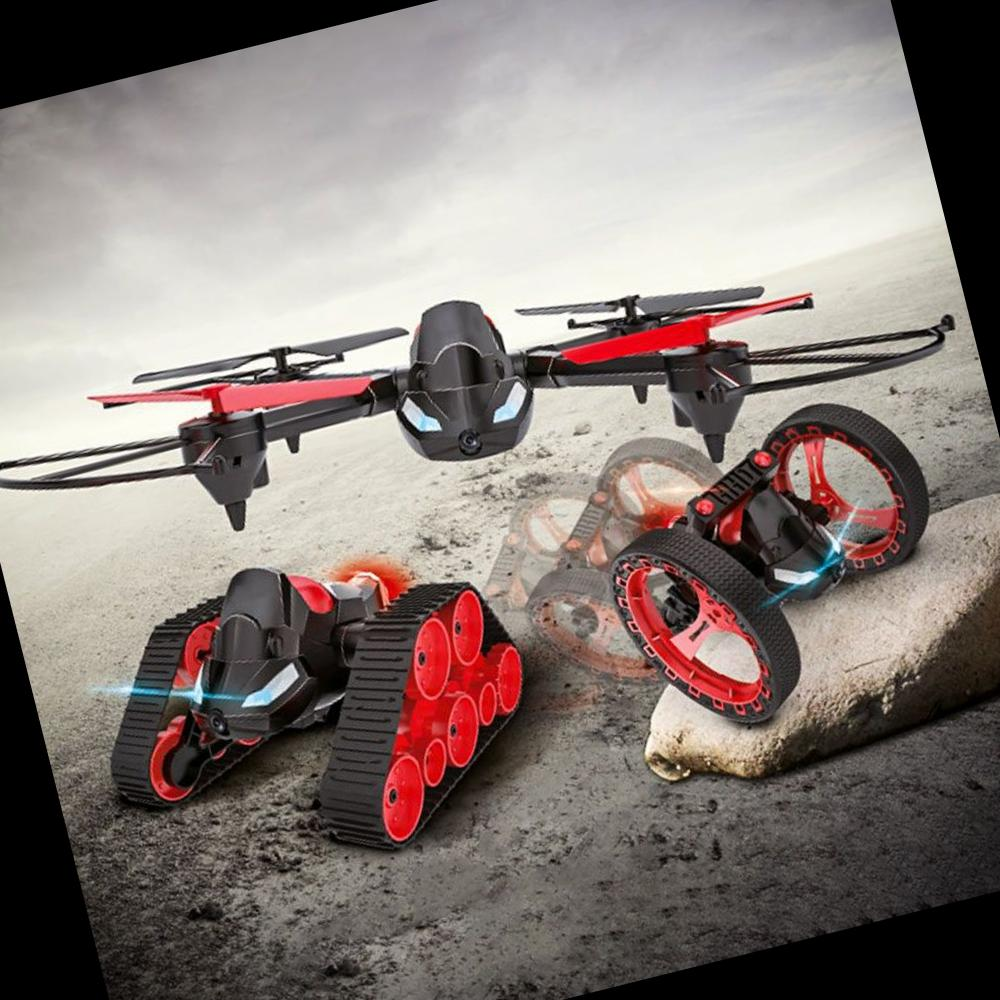drone: (0, 144, 977, 632)
